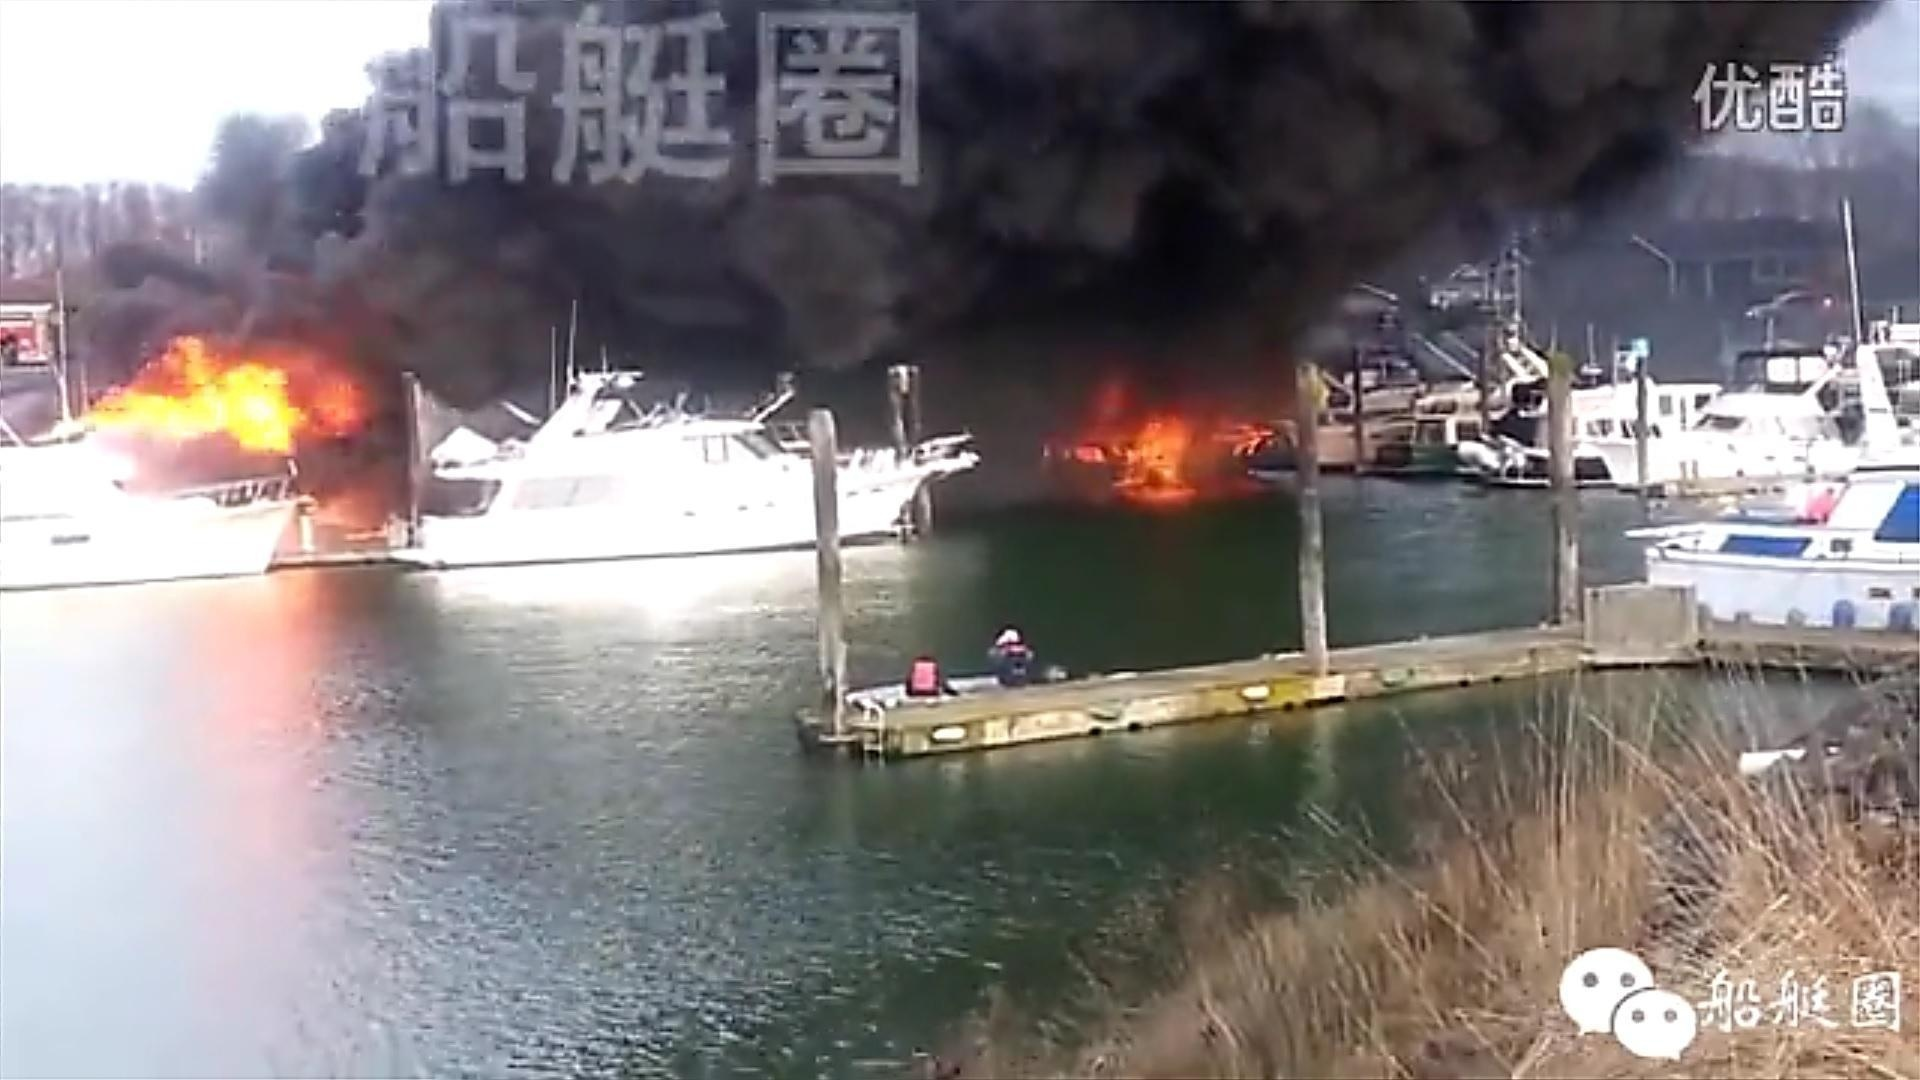fire: (58, 336, 328, 447), (1062, 377, 1276, 501)
